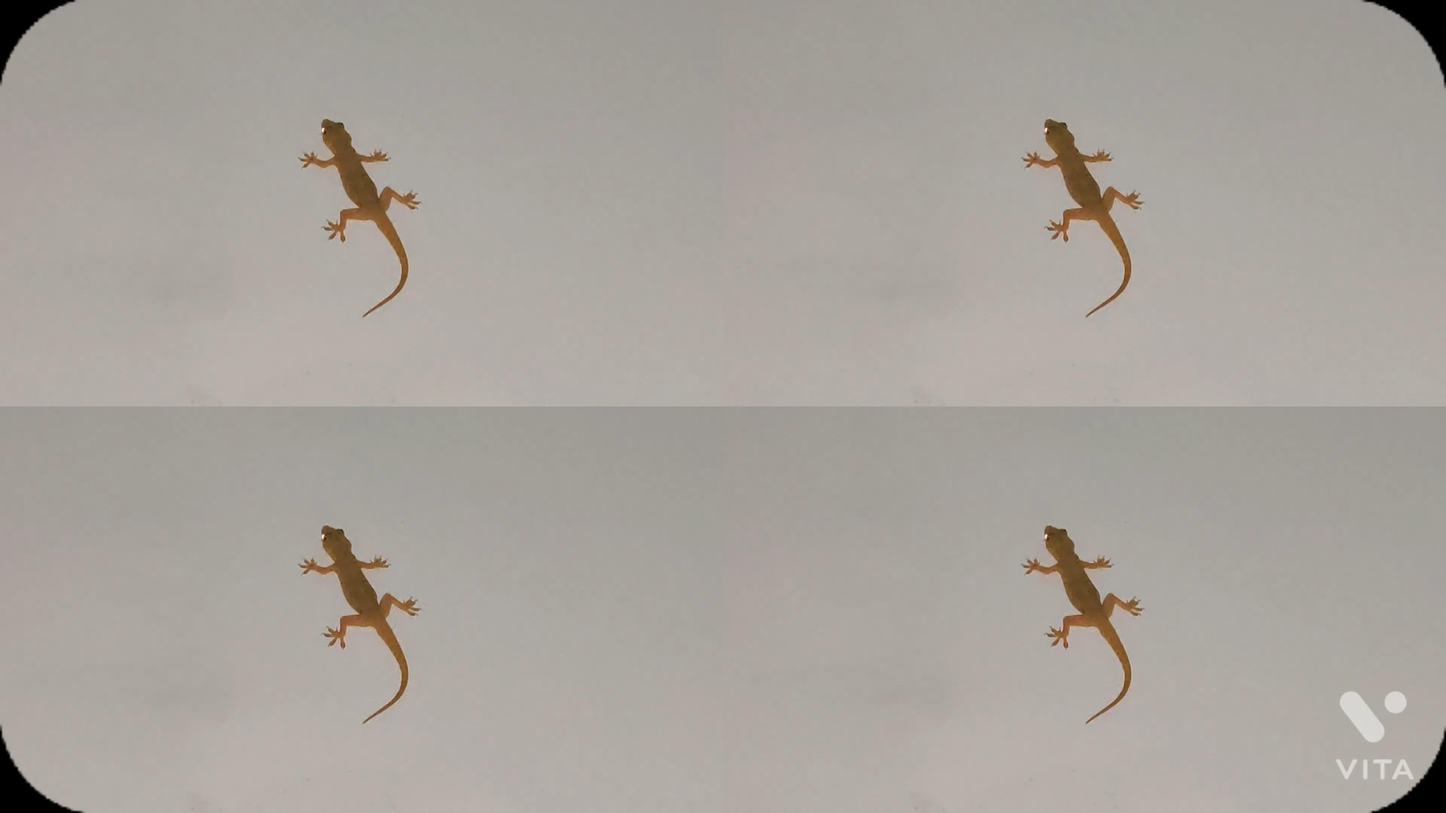lizard: (1015, 103, 1147, 318), (295, 103, 427, 316), (293, 519, 424, 725), (1021, 514, 1147, 723)
